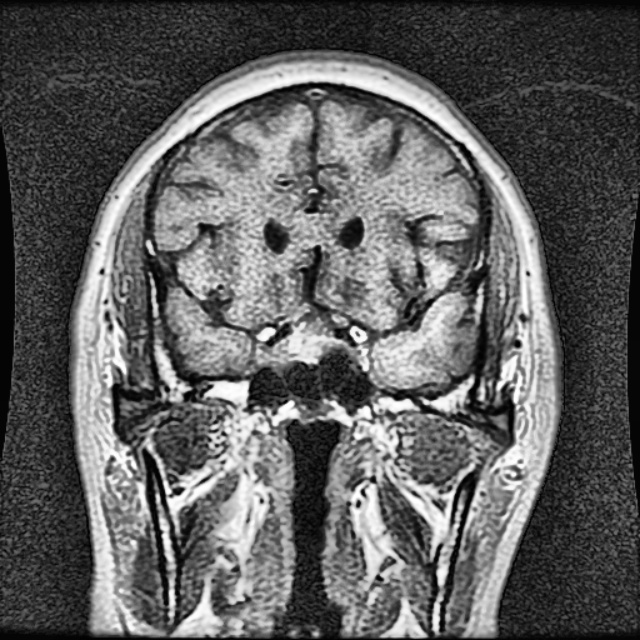Pituitary: (268, 318, 337, 363)
